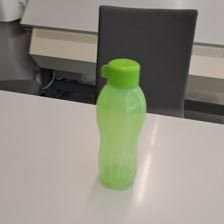bottle: (93, 57, 148, 190)
